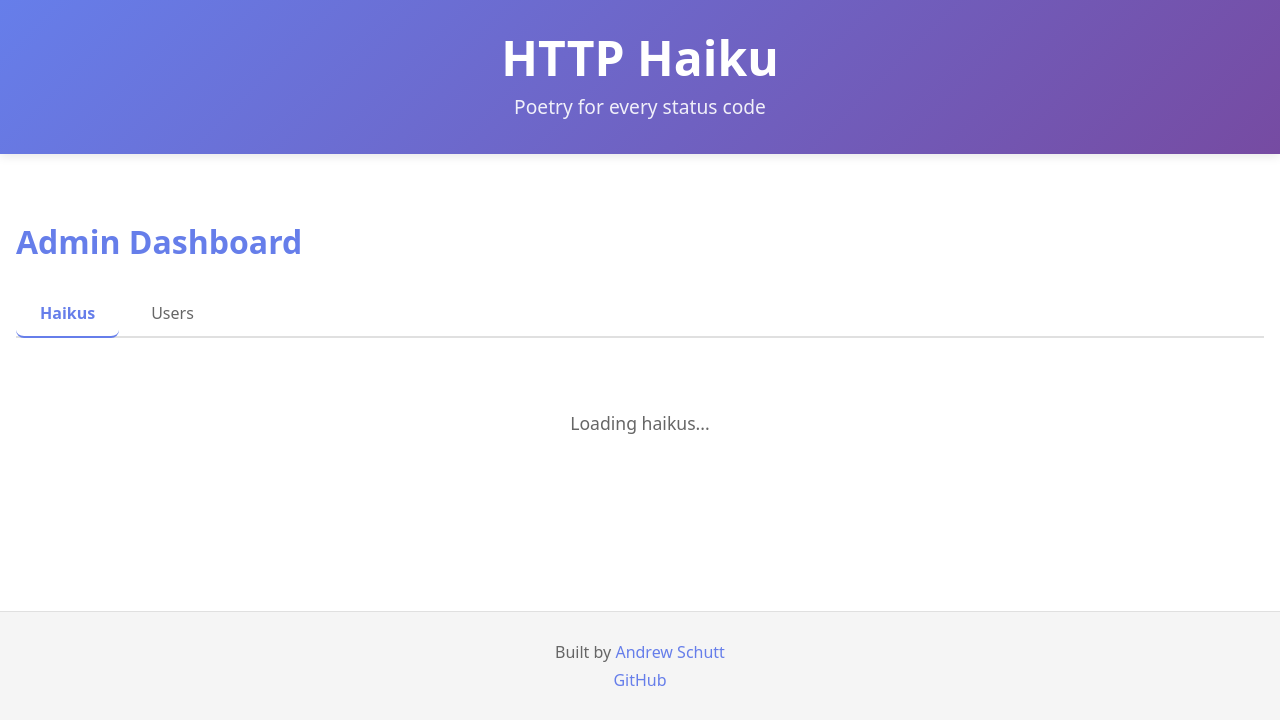
AdminPage › shows loading state while user data is loading
The width and height of the screenshot is (1280, 720).
Expected: the heading "Admin Dashboard" is shown, [16,220,302,263]
Click the button "Users" at (173, 314), box [127,290,218,338]
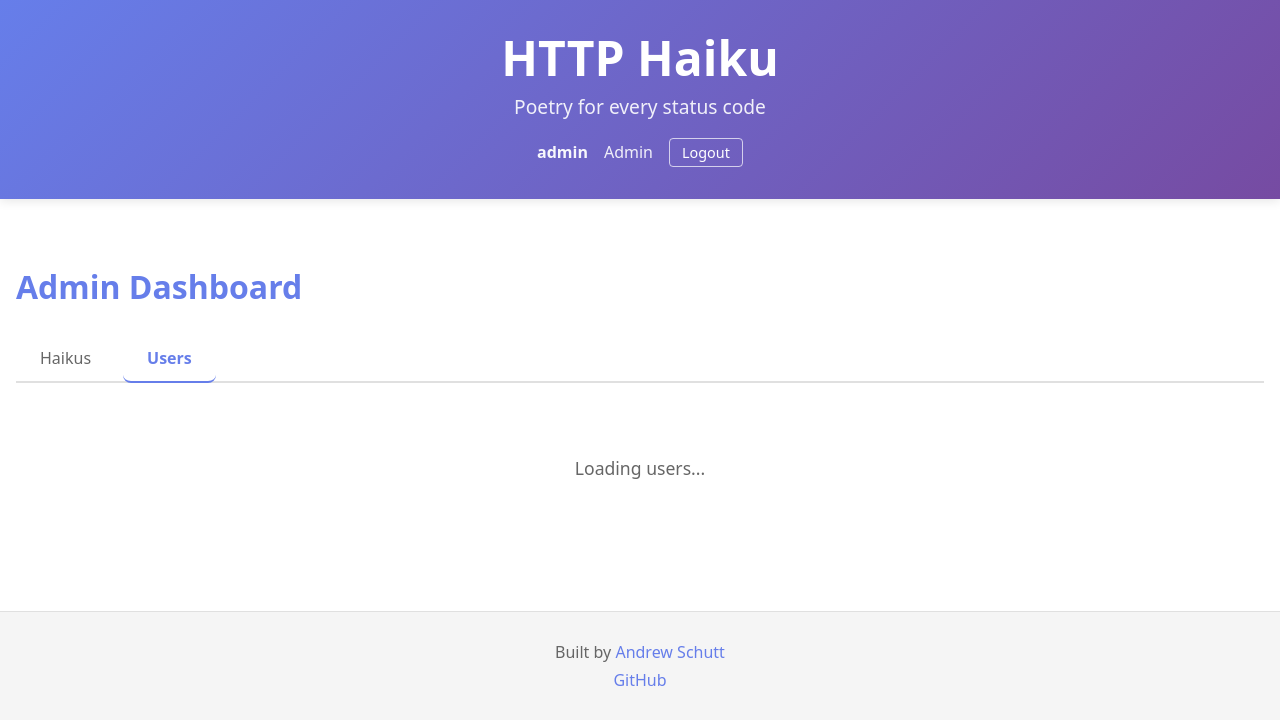
Expected: the text "Loading users..." is shown, [575,456,705,480]
